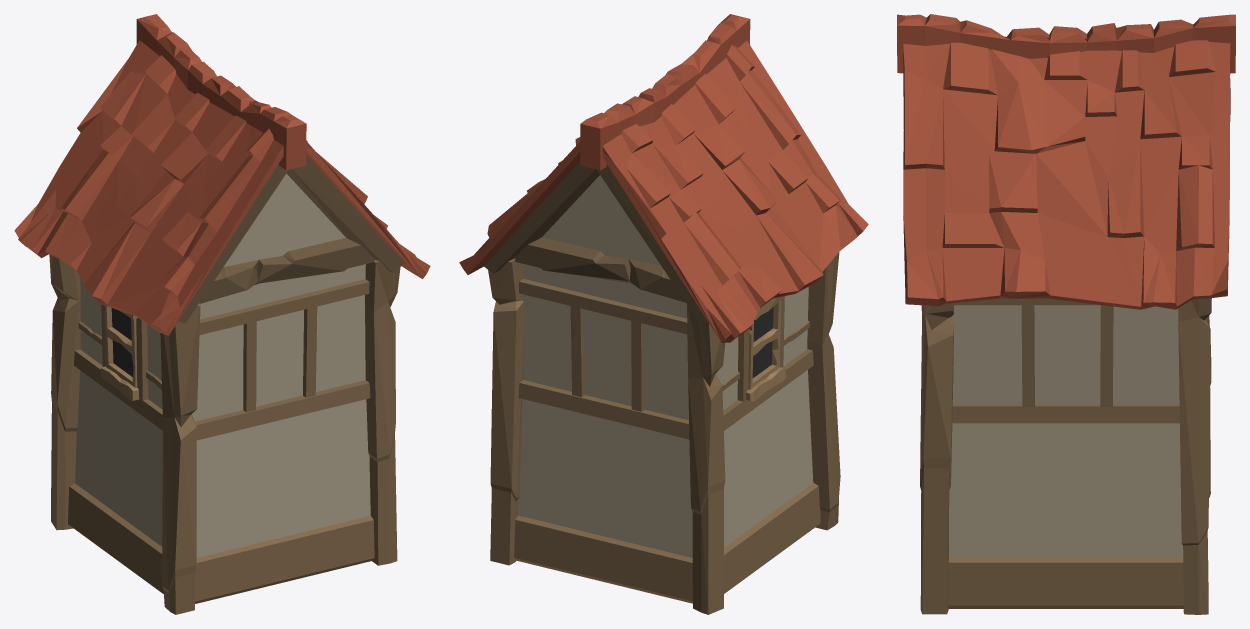
Rendered from SM_Bld_House_RoomTall_04.gltf.
The picture shows the model from 3 angles, left to right: view 1: azimuth 30°, elevation 25°; view 2: azimuth 150°, elevation 25°; view 3: azimuth 270°, elevation 25°; orthographic projection. The views are drawn at different scales.
Visible parts, largest first — view 1: SM_Bld_House_RoomTall_04; view 2: SM_Bld_House_RoomTall_04; view 3: SM_Bld_House_RoomTall_04.
Boxes of the visible parts, x1,y1,x2,y2 form: SM_Bld_House_RoomTall_04: (14, 14, 430, 614); SM_Bld_House_RoomTall_04: (459, 14, 868, 614); SM_Bld_House_RoomTall_04: (897, 14, 1235, 614).
Bounding box in the file's own units: 3.6 × 5.69 × 3.26.
1 material, 1 textured.
